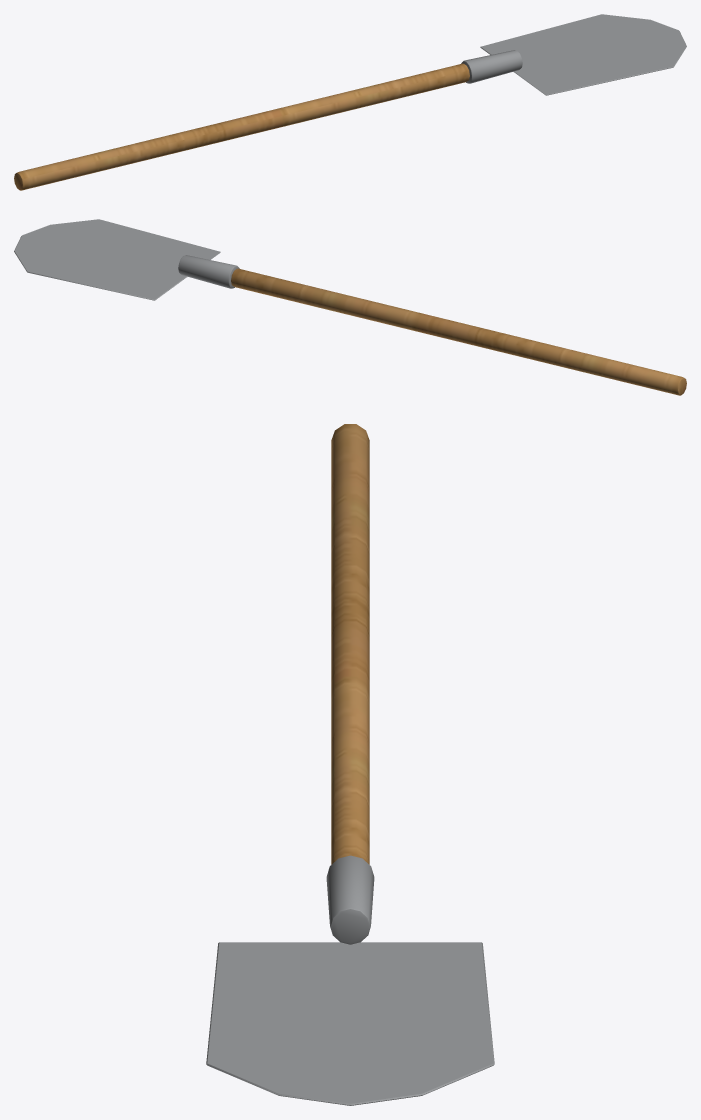
Rendered from EQP-MAO-003_lod1.glb.
The picture shows the model from 3 angles, top to bottom: view 1: azimuth 30°, elevation 25°; view 2: azimuth 150°, elevation 25°; view 3: azimuth 270°, elevation 25°; orthographic projection. The views are drawn at different scales.
Visible parts, largest first — view 1: EQP-MAO-003_lamina, EQP-MAO-003_cabo, EQP-MAO-003_alvado; view 2: EQP-MAO-003_lamina, EQP-MAO-003_cabo, EQP-MAO-003_alvado; view 3: EQP-MAO-003_lamina, EQP-MAO-003_cabo, EQP-MAO-003_alvado.
Part boxes in pixels (box(x1,y1,x2,y2)): EQP-MAO-003_lamina: box(480, 14, 686, 95); EQP-MAO-003_cabo: box(14, 63, 469, 190); EQP-MAO-003_alvado: box(461, 50, 522, 83); EQP-MAO-003_lamina: box(14, 219, 220, 300); EQP-MAO-003_cabo: box(231, 268, 686, 395); EQP-MAO-003_alvado: box(178, 255, 239, 288); EQP-MAO-003_lamina: box(206, 942, 494, 1105); EQP-MAO-003_cabo: box(331, 424, 369, 864); EQP-MAO-003_alvado: box(326, 855, 374, 944).
Bounding box in the file's own units: 1.27 × 0.0399 × 0.2399.
Materials: 2 (1 with a texture image).
